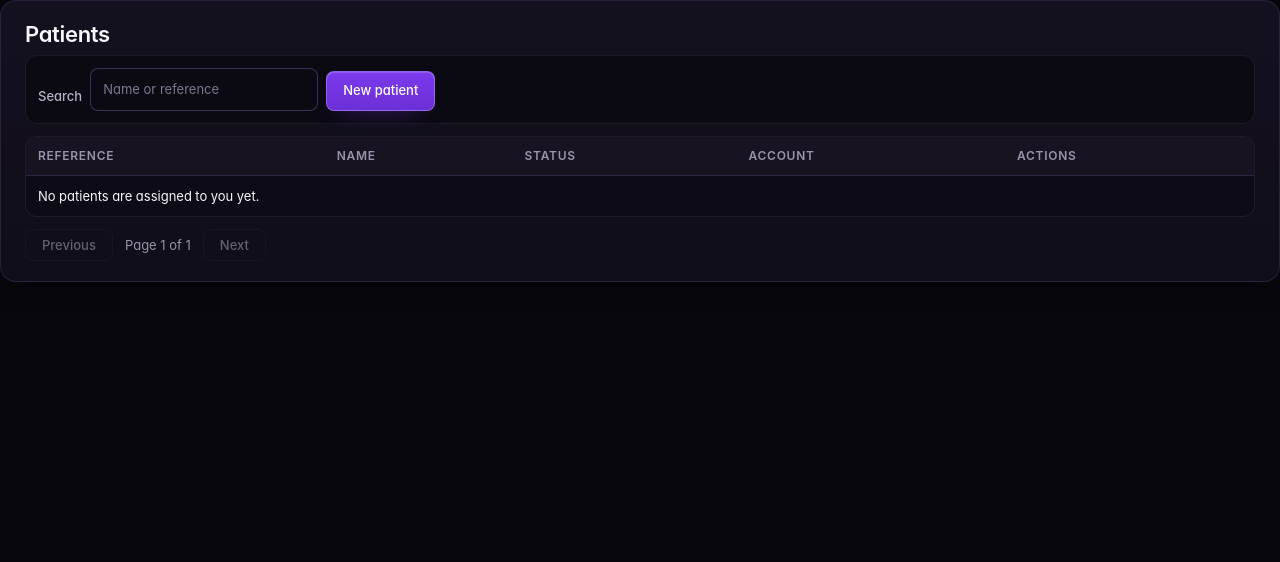
Test: PatientList › walks the creation wizard from details to review
Click the button "New patient" at x=381, y=90, box [326,70,435,110]
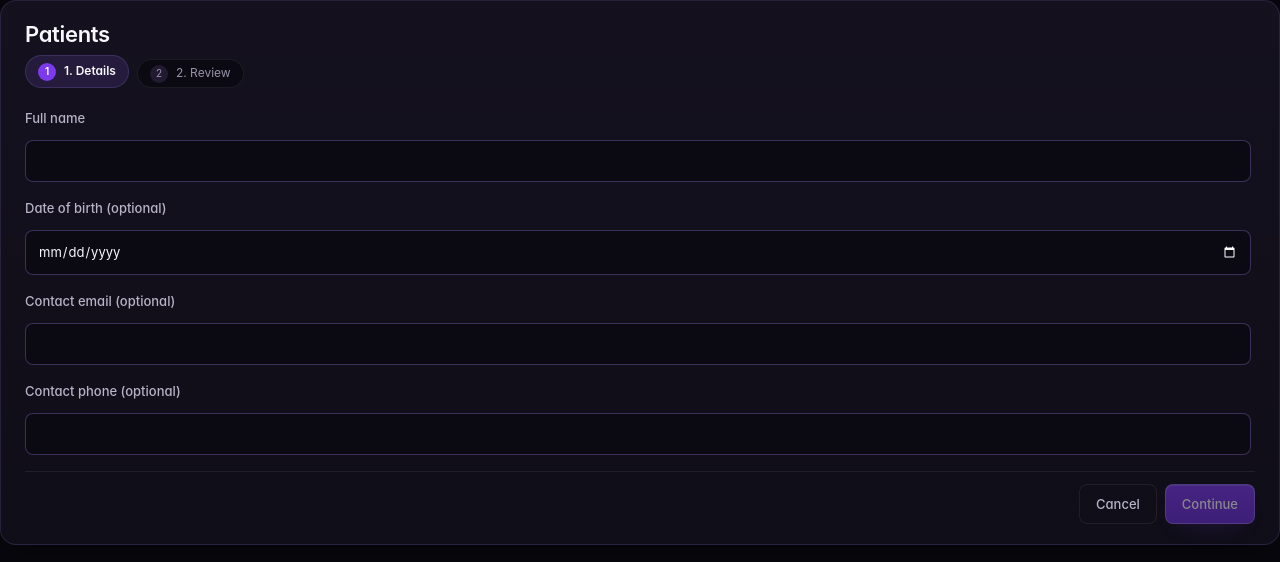
Expected: the button "Continue" is disabled, [1165,484,1255,524]
Type "Synthetic Person" into the field labelled "Full name" at x=638, y=161, box [25,140,1251,182]
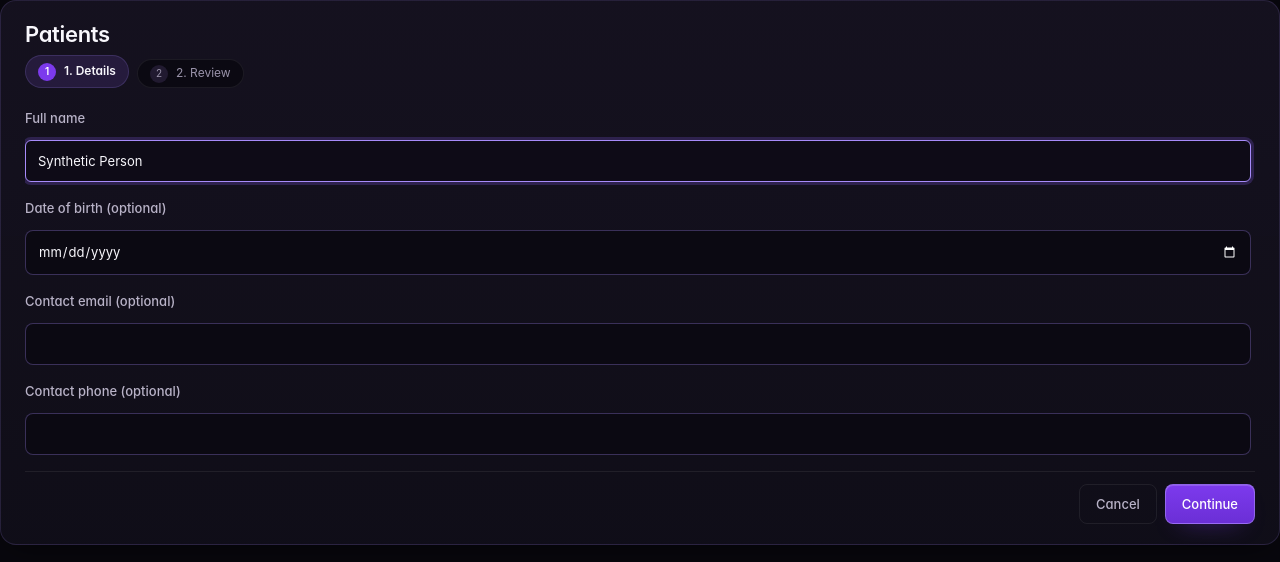
Click the button "Continue" at x=1210, y=504, box [1165,484,1255,524]
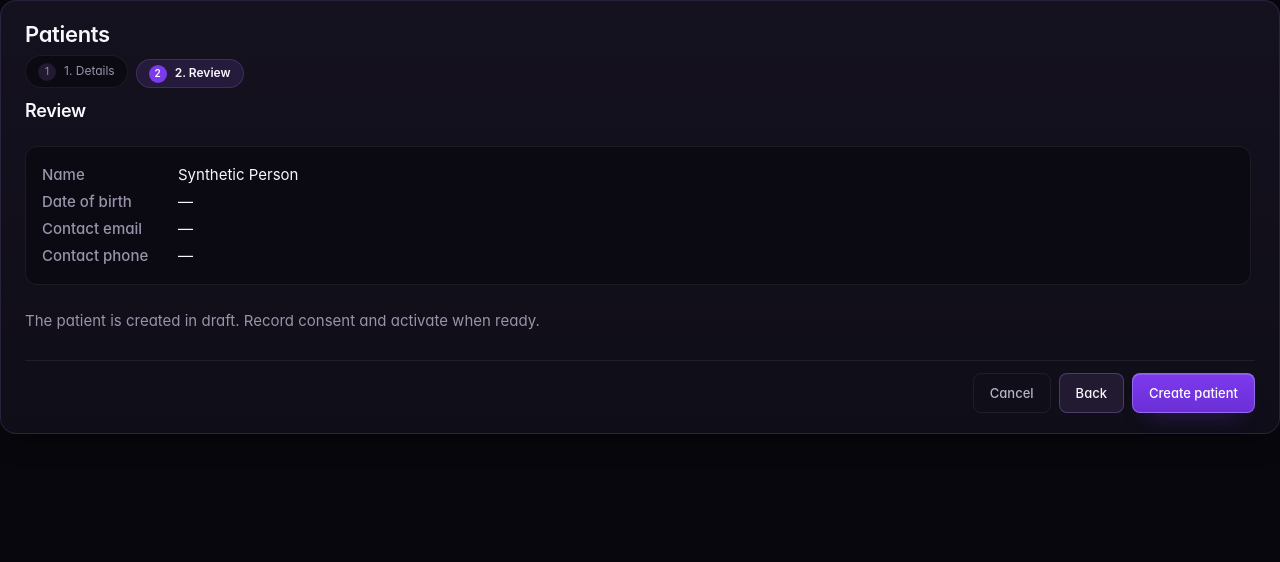
Expected: the heading "Review" is shown, [25,100,86,121]
Expected: the text "Synthetic Person" is shown, [178,165,298,184]
